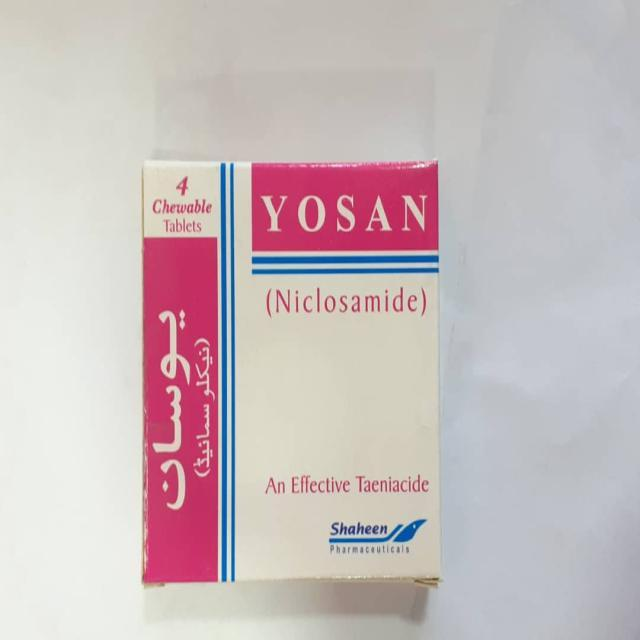drug-name: (261, 192, 429, 232)
